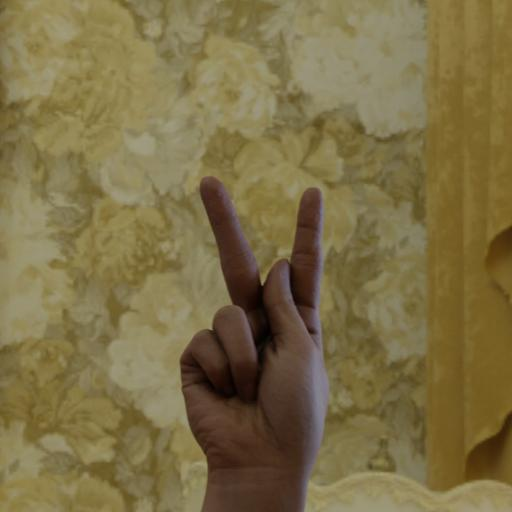K: (176, 173, 335, 475)
